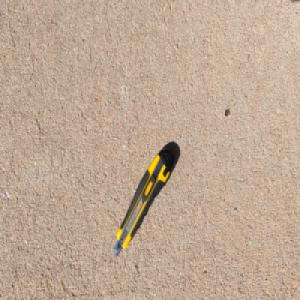Cutter: (112, 145, 176, 258)
